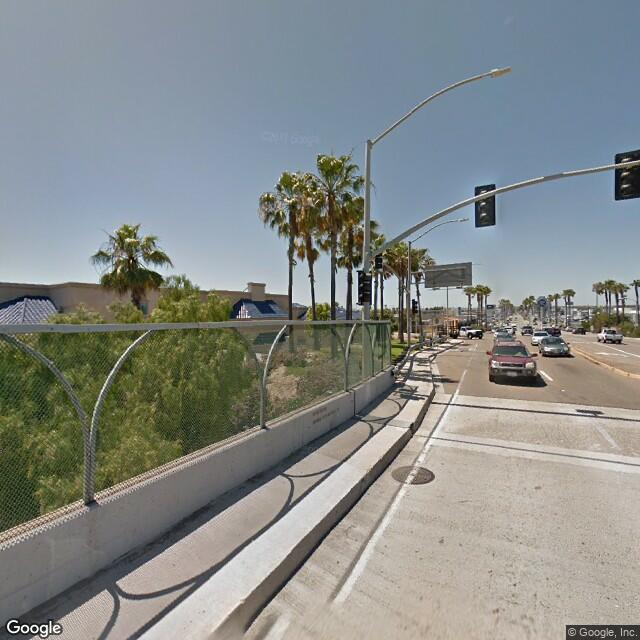litter: (324, 390, 335, 395)
